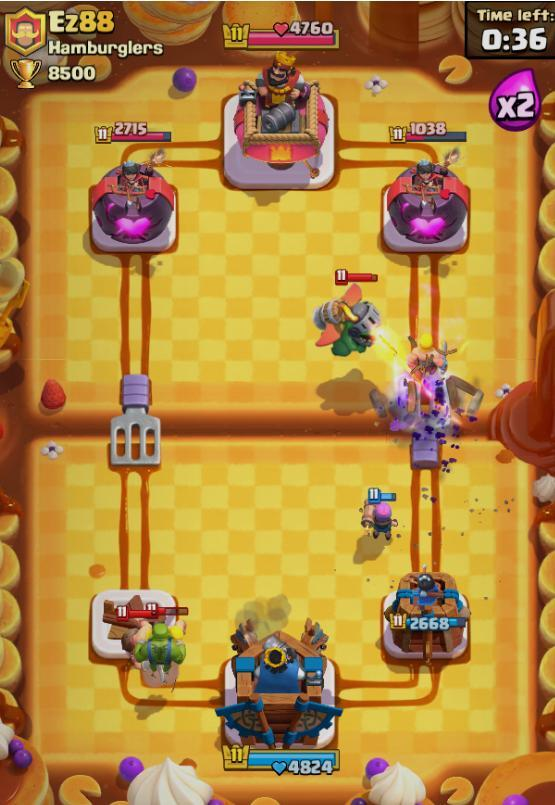EInfernoDrag: (313, 271, 380, 357)
EKingTower: (224, 76, 334, 189)
EnemyPrincessTower: (382, 160, 469, 253), (90, 161, 175, 253)
OBarb: (407, 338, 456, 378)
OBrawler: (132, 623, 185, 680)
OFirecrack: (361, 487, 398, 543)
OwnKingTower: (216, 620, 341, 749)
OwnPrincessTower: (382, 572, 469, 662)
TowerDown: (91, 589, 175, 659)
